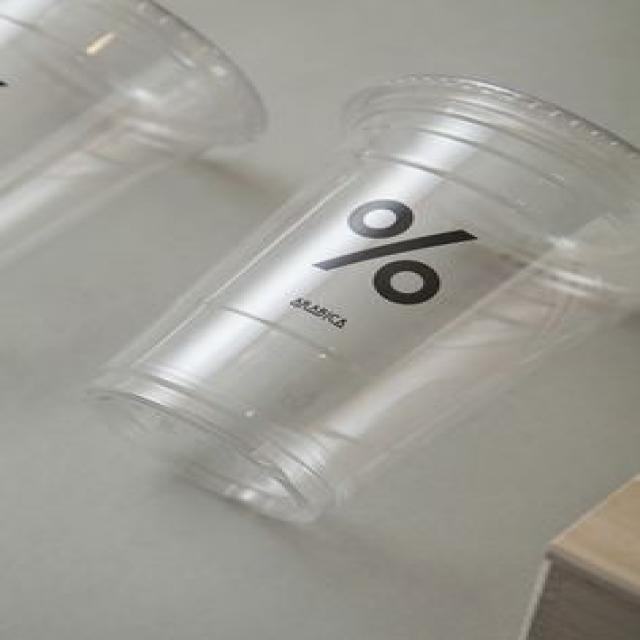bottle: (90, 75, 638, 522), (0, 0, 264, 266)
